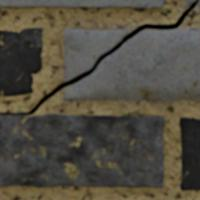brick: (0, 113, 164, 187), (0, 28, 43, 96), (179, 117, 199, 189), (0, 0, 163, 8)
broken_brick: (64, 29, 199, 100), (65, 29, 133, 80), (184, 0, 195, 7)
crack: (1, 0, 197, 114)
